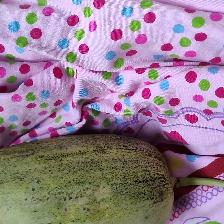gua: (9, 144, 176, 217)
